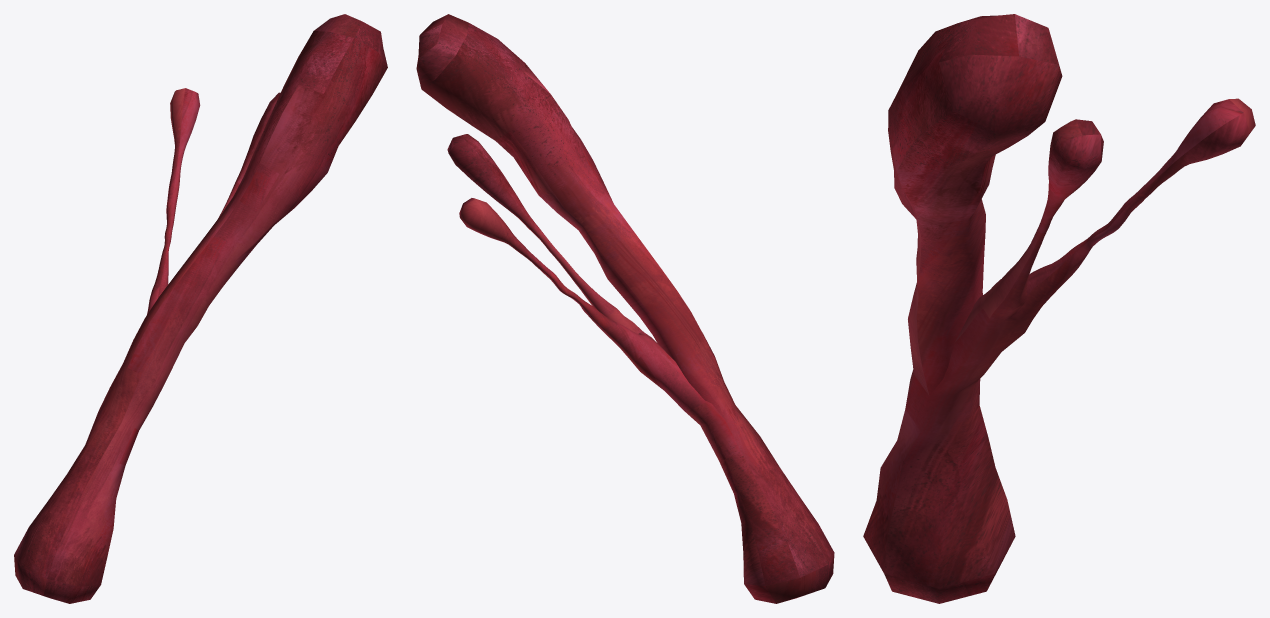
Rendered from vein-1.fbx.
3 renders of one model, left to right at view 1: azimuth 30°, elevation 25°; view 2: azimuth 150°, elevation 25°; view 3: azimuth 270°, elevation 25°, orthographic. The views are drawn at different scales.
Visible parts, largest first — view 1: VEIN 1; view 2: VEIN 1; view 3: VEIN 1.
Part boxes in pixels (x1=…): VEIN 1: x1=14, y1=14, x2=387, y2=603; VEIN 1: x1=416, y1=14, x2=834, y2=603; VEIN 1: x1=863, y1=14, x2=1255, y2=603.
Size of the model in its own units: 951 by 1195 by 516.
